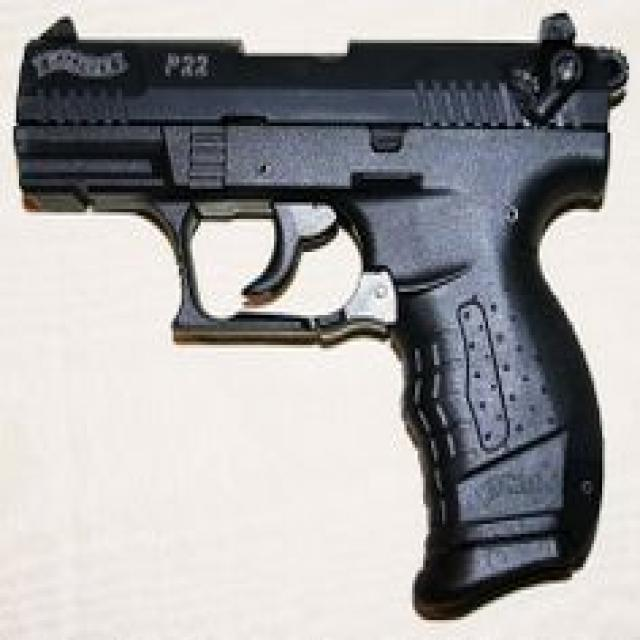semi automatic: (5, 10, 640, 626), (12, 5, 632, 630)
